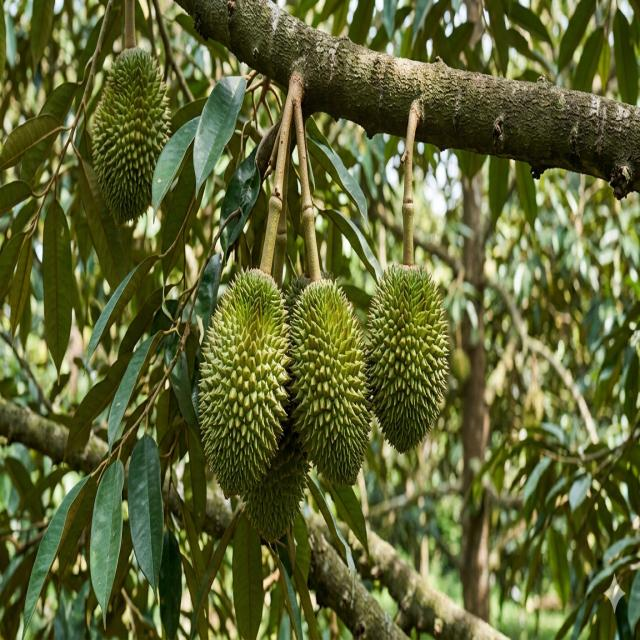immature: (197, 263, 294, 503), (285, 275, 373, 485), (362, 260, 448, 453), (90, 44, 171, 227), (223, 264, 286, 332), (282, 270, 322, 318)
